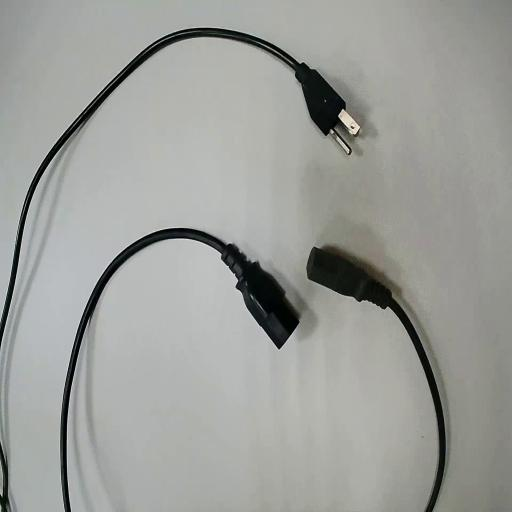wire: (0, 29, 345, 338), (62, 229, 298, 511), (308, 248, 445, 511)
